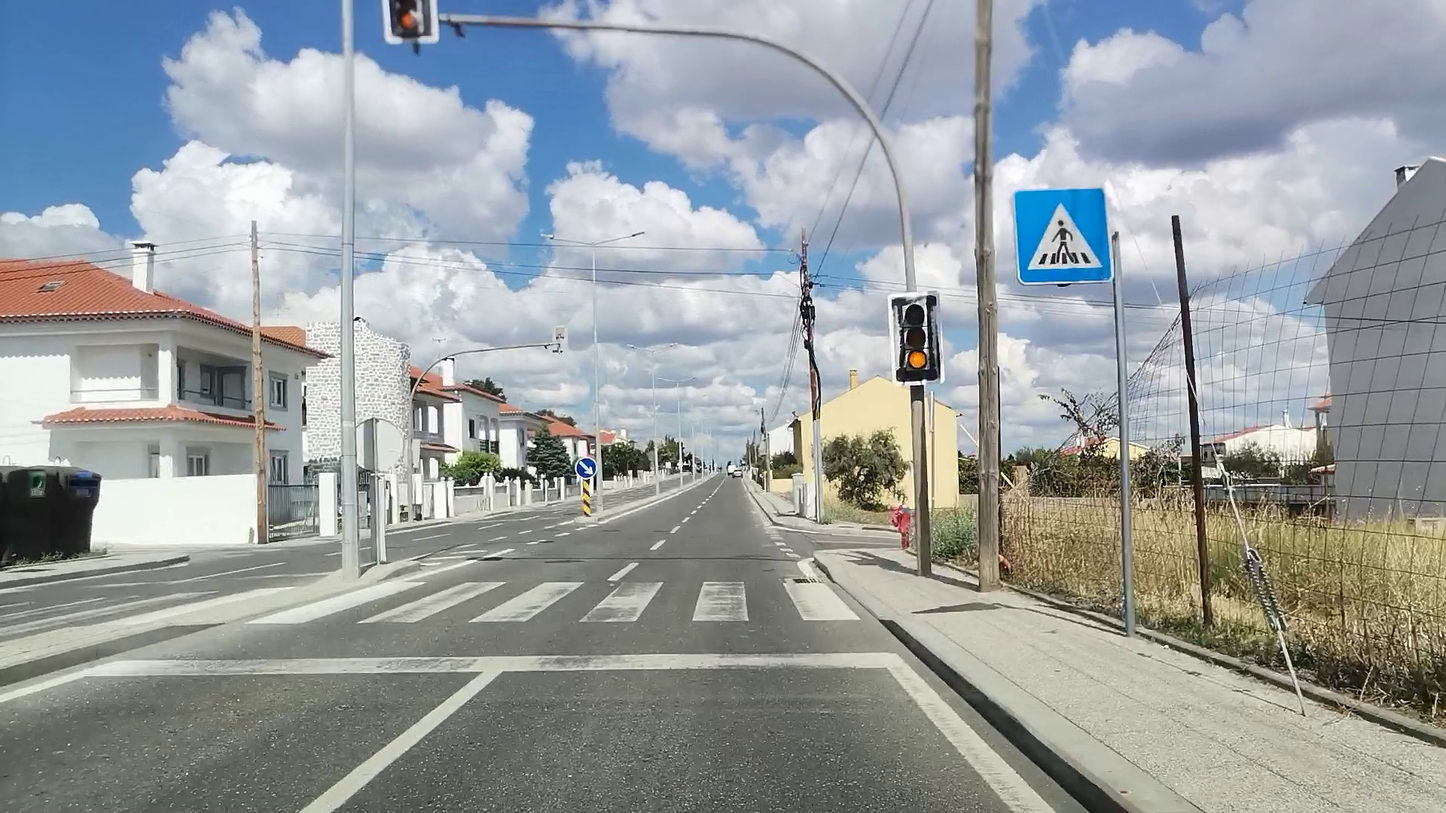Stairs: (249, 581, 860, 624)
